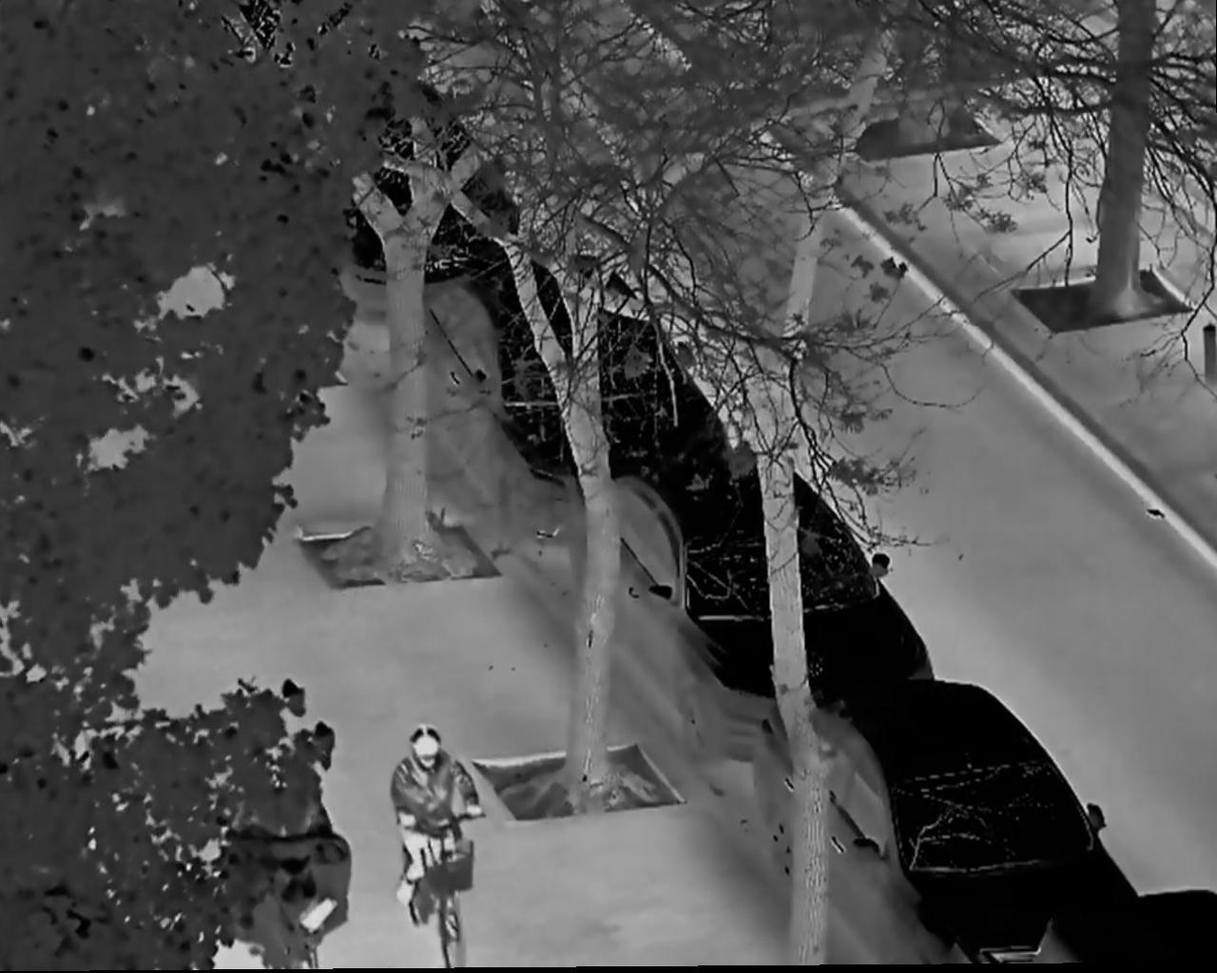person: (232, 744, 345, 937), (389, 729, 486, 908)
